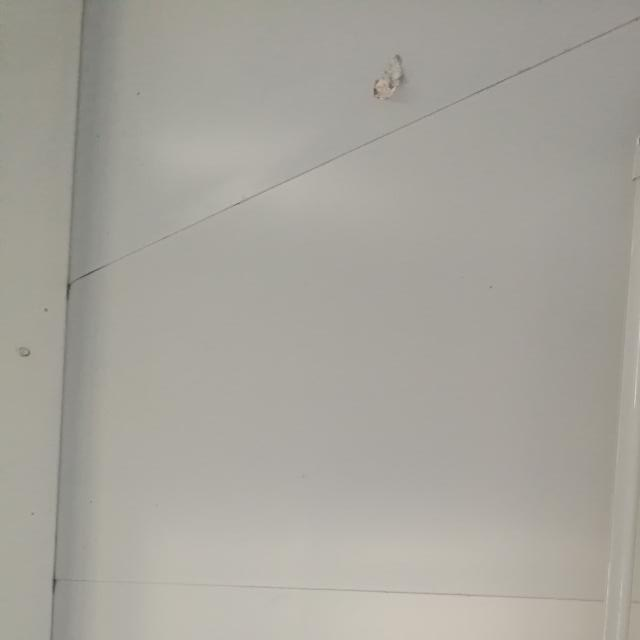fluorescent tube: (517, 85, 640, 639)
